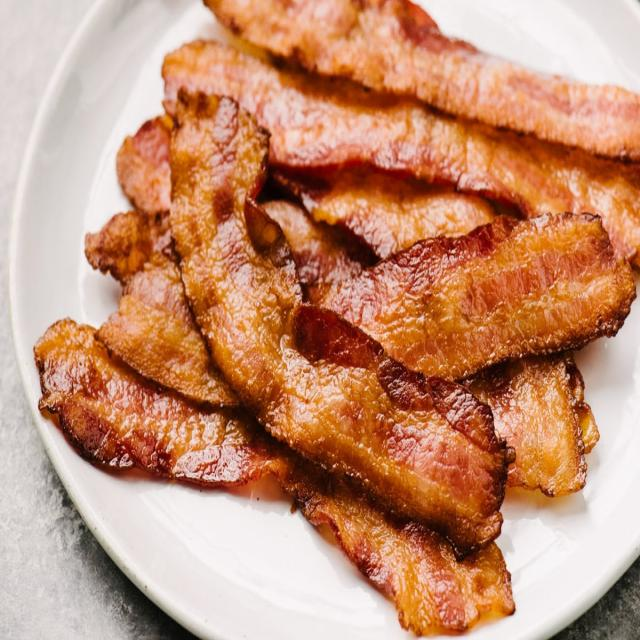Bacon: (170, 92, 512, 553), (34, 320, 514, 635), (162, 43, 640, 266), (205, 0, 640, 161), (320, 213, 635, 380), (469, 215, 634, 372), (98, 255, 239, 406), (468, 356, 586, 496)
